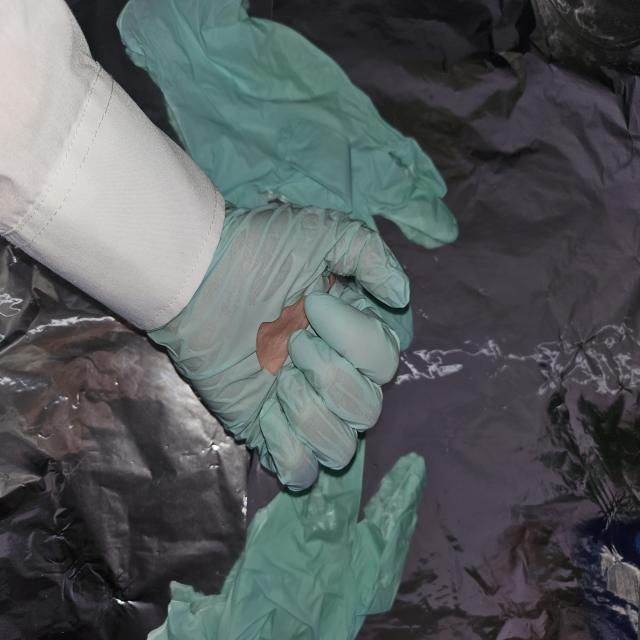gloves_damaged: (151, 202, 412, 492)
